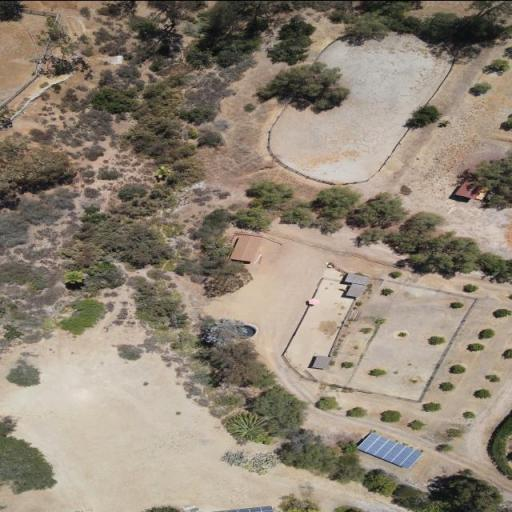solar-panel: (357, 432, 424, 468), (205, 505, 274, 512)
